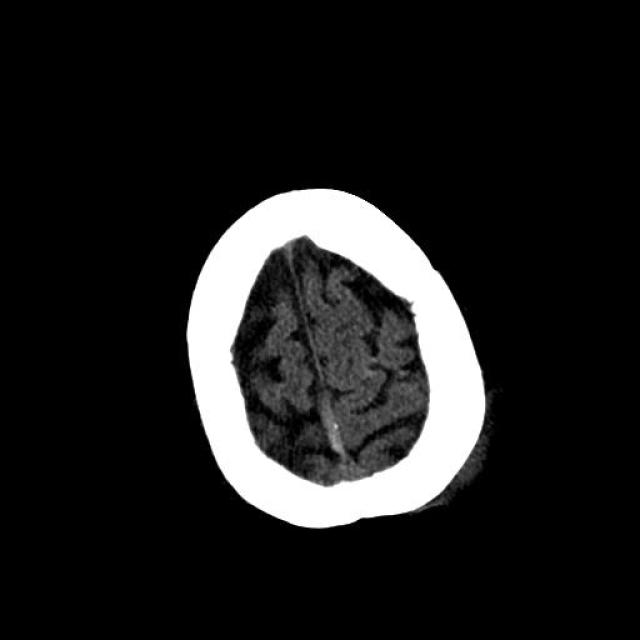Subdural: (305, 398, 394, 510)
